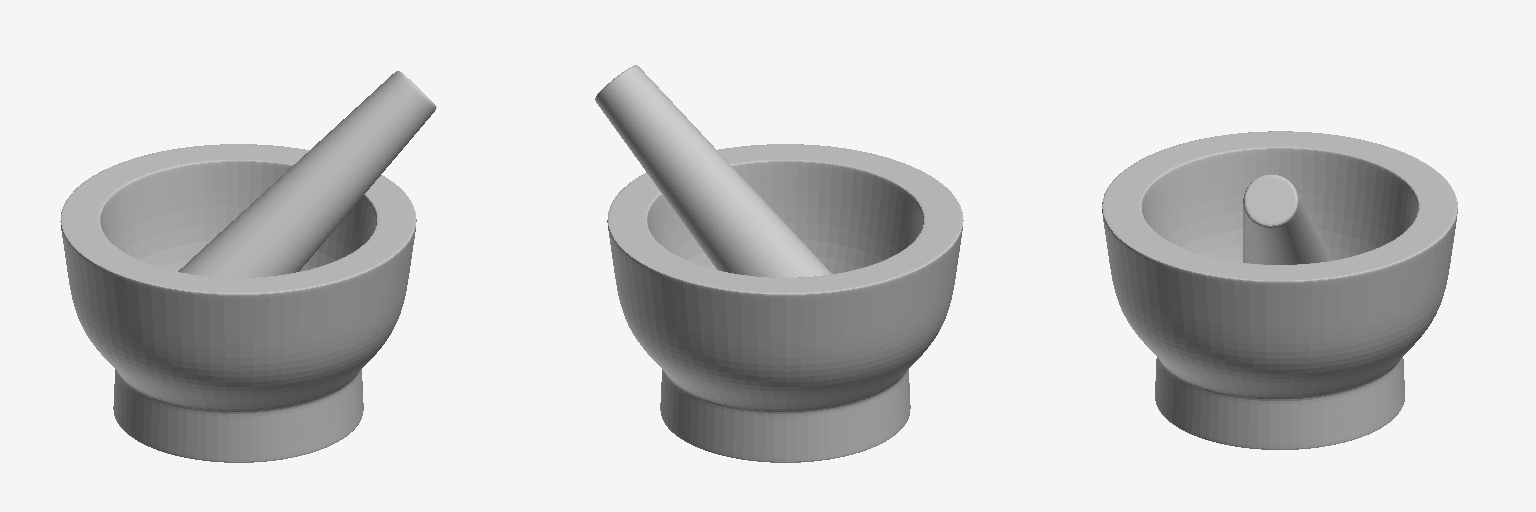
The model's file is mortar and pestle.obj.
3 views of the same model, side by side, from view 1: azimuth 30°, elevation 25°; view 2: azimuth 150°, elevation 25°; view 3: azimuth 270°, elevation 25° (orthographic).
Parts seen in each view (by area): view 1: mortar_and_pestle_00, mortar_and_pestle_01; view 2: mortar_and_pestle_00, mortar_and_pestle_01; view 3: mortar_and_pestle_00, mortar_and_pestle_01.
Part boxes in pixels (left/top/right/bottom): mortar_and_pestle_00: left=60, top=144, right=416, bottom=462; mortar_and_pestle_01: left=178, top=71, right=436, bottom=277; mortar_and_pestle_00: left=607, top=144, right=963, bottom=462; mortar_and_pestle_01: left=595, top=65, right=831, bottom=277; mortar_and_pestle_00: left=1102, top=131, right=1457, bottom=449; mortar_and_pestle_01: left=1243, top=174, right=1331, bottom=264.
Size of the model in its own units: 18.2 by 15.24 by 16.35.